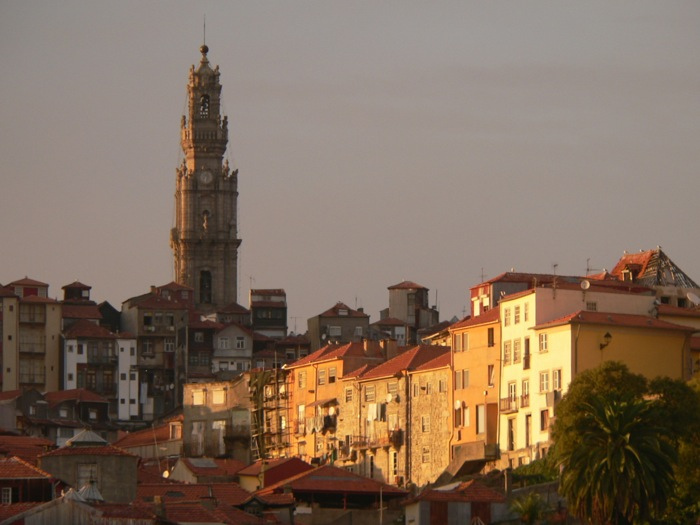clerigos: (165, 10, 244, 313)
